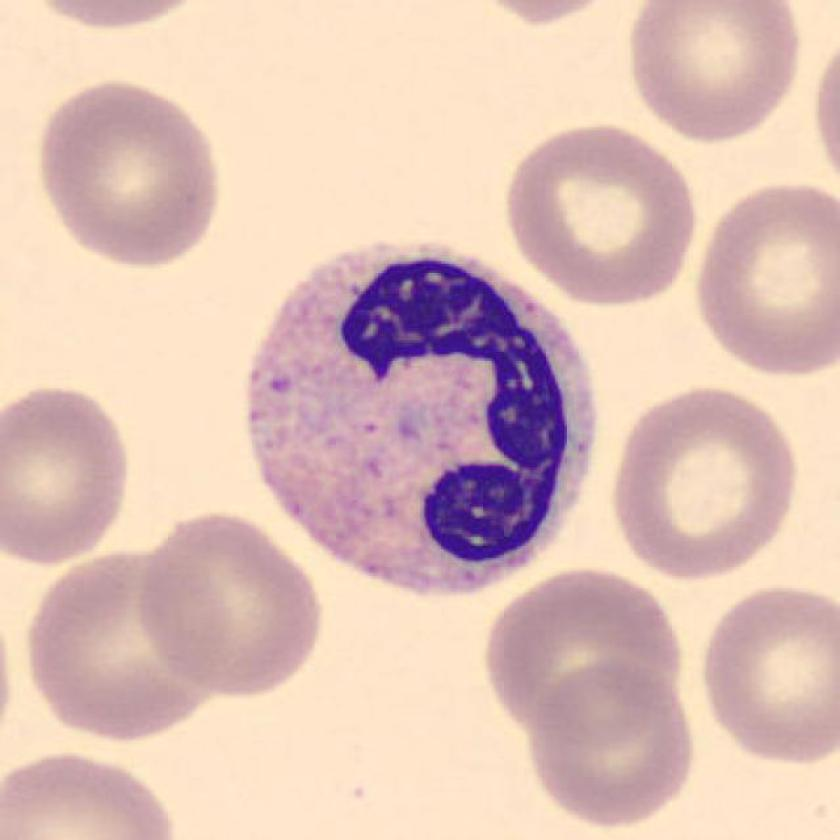neutrophil: (249, 244, 596, 590)
